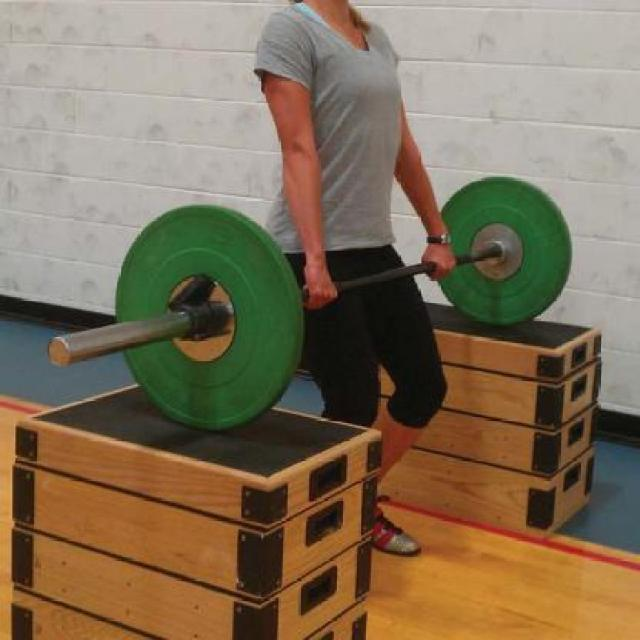Barbell: (44, 333, 81, 372)
